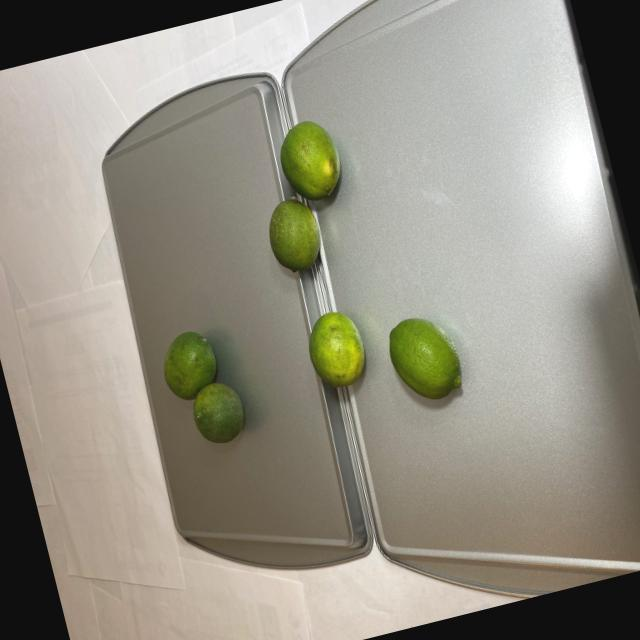lemon: (244, 99, 474, 433), (152, 311, 258, 462)
